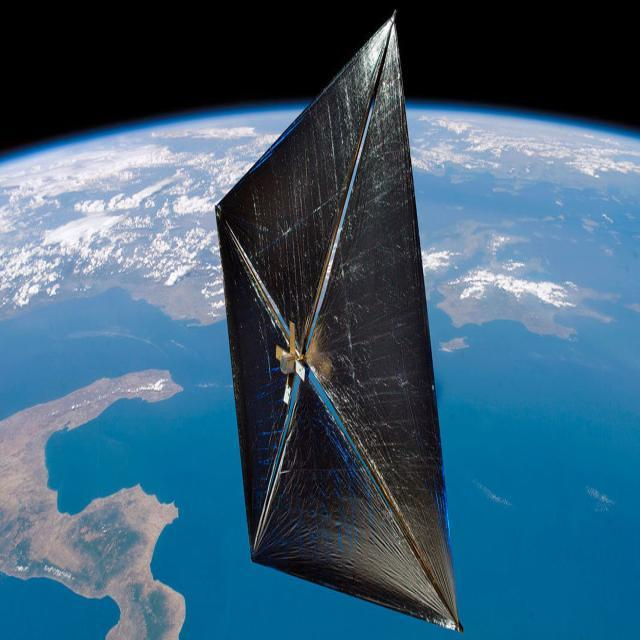sat: (209, 0, 481, 640)
